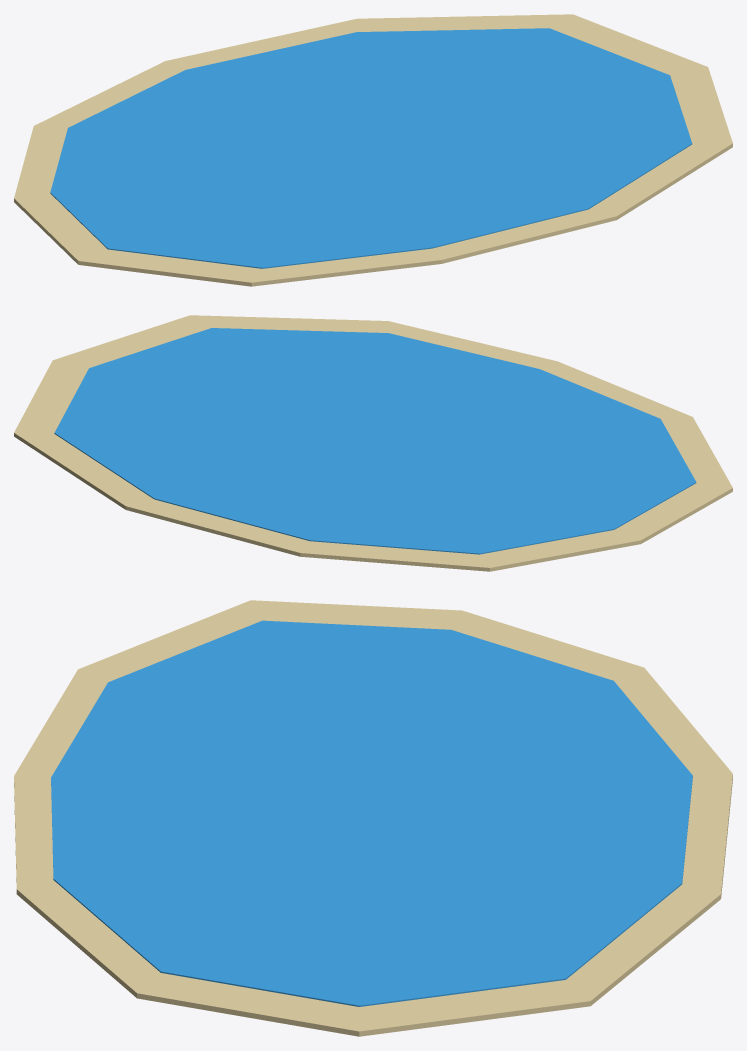
The model's file is lago_v2.glb.
3 views of the same model, one above another, from view 1: azimuth 30°, elevation 25°; view 2: azimuth 150°, elevation 25°; view 3: azimuth 270°, elevation 25° (orthographic). The views are drawn at different scales.
Parts seen in each view (by area): view 1: agua, orilla; view 2: agua, orilla; view 3: agua, orilla.
Part boxes in pixels (bbox=[...]): agua: bbox=[50, 28, 692, 268]; orilla: bbox=[14, 14, 732, 286]; agua: bbox=[54, 328, 696, 554]; orilla: bbox=[14, 315, 732, 571]; agua: bbox=[51, 620, 692, 1006]; orilla: bbox=[14, 600, 732, 1036].
Size of the model in its own units: 14.16 by 0.101 by 9.98.
